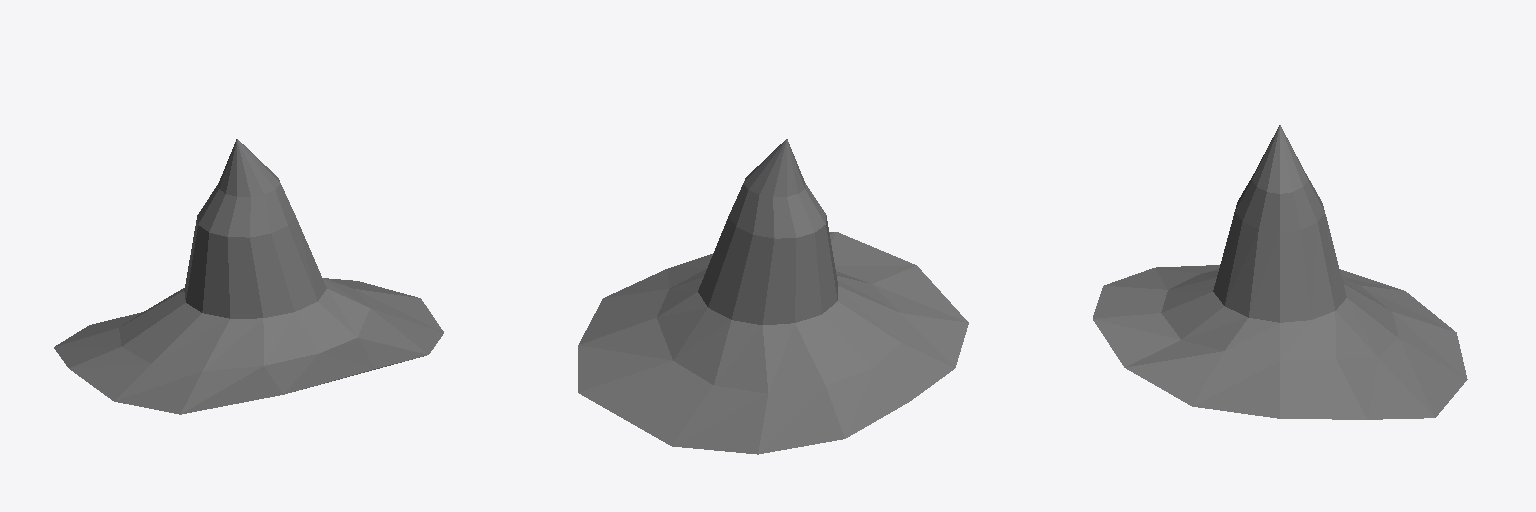
Rendered from hat.obj.
3 renders of one model, left to right at view 1: azimuth 30°, elevation 25°; view 2: azimuth 150°, elevation 25°; view 3: azimuth 270°, elevation 25°, orthographic.
Visible parts, largest first — view 1: Object001; view 2: Object001; view 3: Object001.
Part boxes in pixels (x1,y1,x2,y2): Object001: (54,139,443,414); Object001: (578,139,968,454); Object001: (1093,125,1467,419).
Bounding box in the file's own units: 32.99 × 23.41 × 32.51.